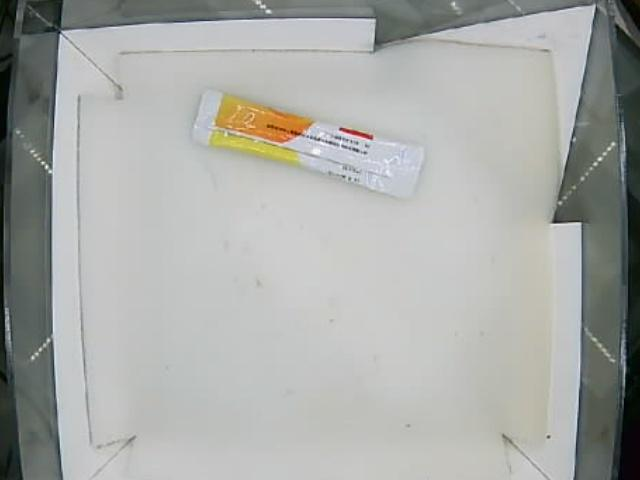Medicine: (192, 90, 427, 198)
